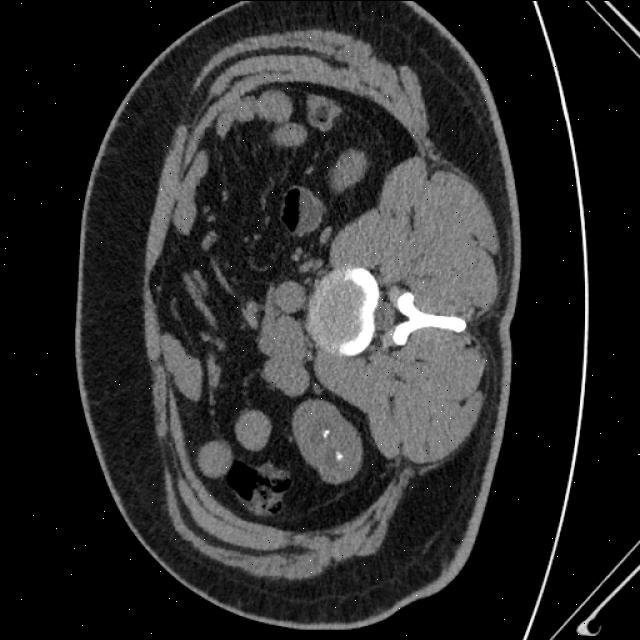kidneystone: (337, 450, 344, 460), (322, 428, 330, 436)
